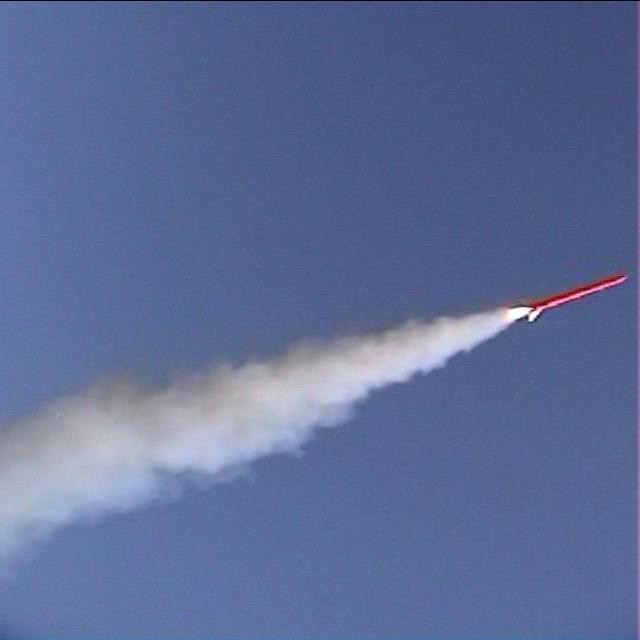missile: (508, 266, 628, 330)
